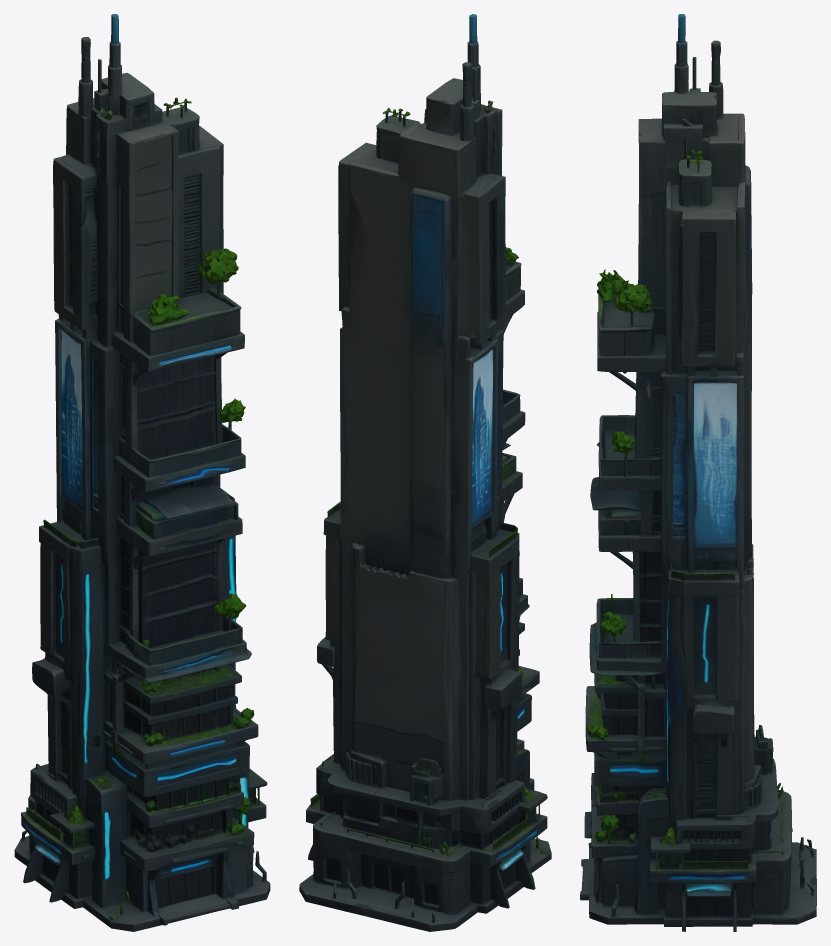
The picture shows the model from 3 angles, left to right: view 1: azimuth 30°, elevation 25°; view 2: azimuth 150°, elevation 25°; view 3: azimuth 270°, elevation 25°; orthographic projection. The views are drawn at different scales.
Parts seen in each view (by area): view 1: model; view 2: model; view 3: model.
Part boxes in pixels (x1=…): model: x1=14, y1=14, x2=270, y2=931; model: x1=299, y1=14, x2=551, y2=931; model: x1=580, y1=14, x2=816, y2=931.
Bounding box in the file's own units: 0.4621 × 1.9 × 0.4768.
Materials: 1 (1 with a texture image).
